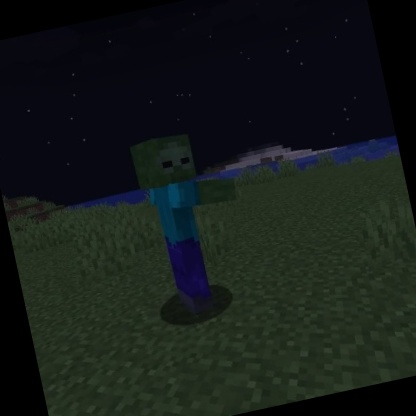zombie: (122, 121, 264, 324)
